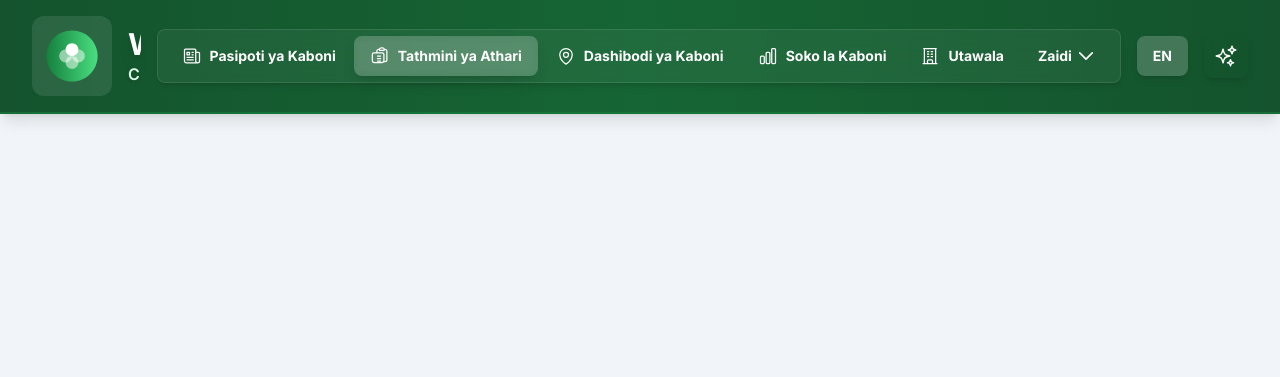
Scenario: Header › shows dropdown items when More is clicked
Click the button "Zaidi" at (1067, 56), box x1=1022 y1=36 x2=1112 y2=76
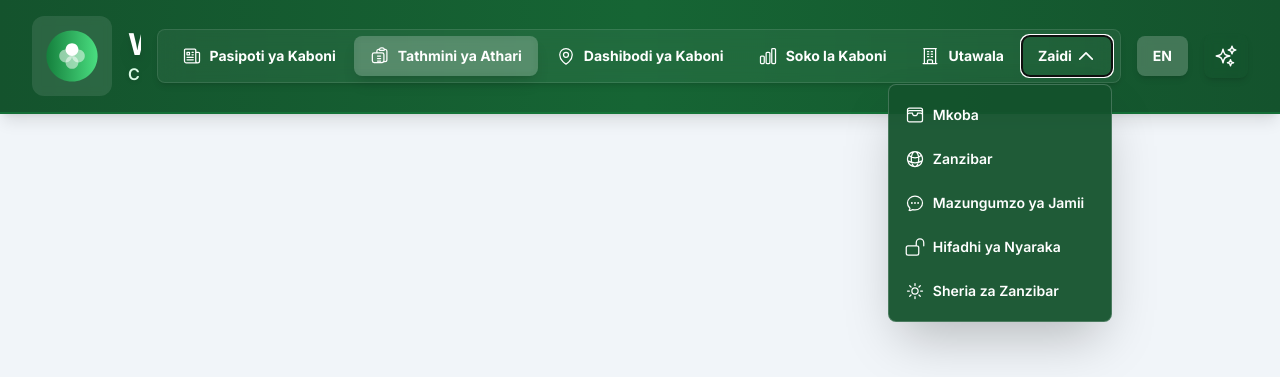
expect the button "Mazungumzo ya Jamii" is shown: met, box x1=889 y1=181 x2=1111 y2=225
expect the button "Hifadhi ya Nyaraka" is shown: met, box x1=889 y1=225 x2=1111 y2=269
expect the button "Zanzibar" is shown: met, box x1=889 y1=137 x2=1111 y2=181
